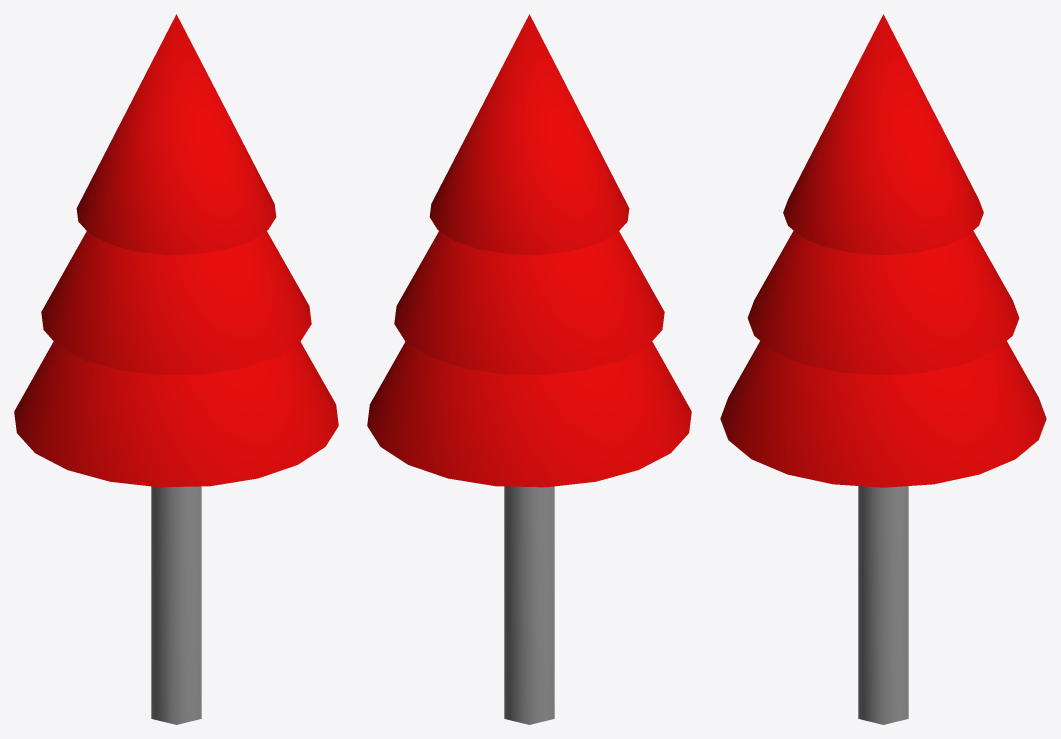
File: SM_Tree.fbx
3 views of the same model, side by side, from view 1: azimuth 30°, elevation 25°; view 2: azimuth 150°, elevation 25°; view 3: azimuth 270°, elevation 25° (orthographic).
Parts seen in each view (by area): view 1: SM_TreeTop01, SM_TreeTop02, SM_TreeTop03, SM_TreeTrunk; view 2: SM_TreeTop01, SM_TreeTop02, SM_TreeTop03, SM_TreeTrunk; view 3: SM_TreeTop01, SM_TreeTop02, SM_TreeTop03, SM_TreeTrunk.
Part boxes in pixels (x1,y1,x2,y2): SM_TreeTop01: (14, 341, 338, 487); SM_TreeTop02: (41, 231, 311, 374); SM_TreeTop03: (76, 14, 276, 254); SM_TreeTrunk: (151, 486, 201, 724); SM_TreeTop01: (367, 341, 691, 487); SM_TreeTop02: (394, 231, 664, 374); SM_TreeTop03: (429, 14, 629, 254); SM_TreeTrunk: (504, 486, 554, 724); SM_TreeTop01: (720, 341, 1046, 487); SM_TreeTop02: (747, 230, 1019, 375); SM_TreeTop03: (783, 14, 983, 254); SM_TreeTrunk: (858, 486, 908, 724).
Size of the model in its own units: 11.77 by 27.8 by 11.77.
